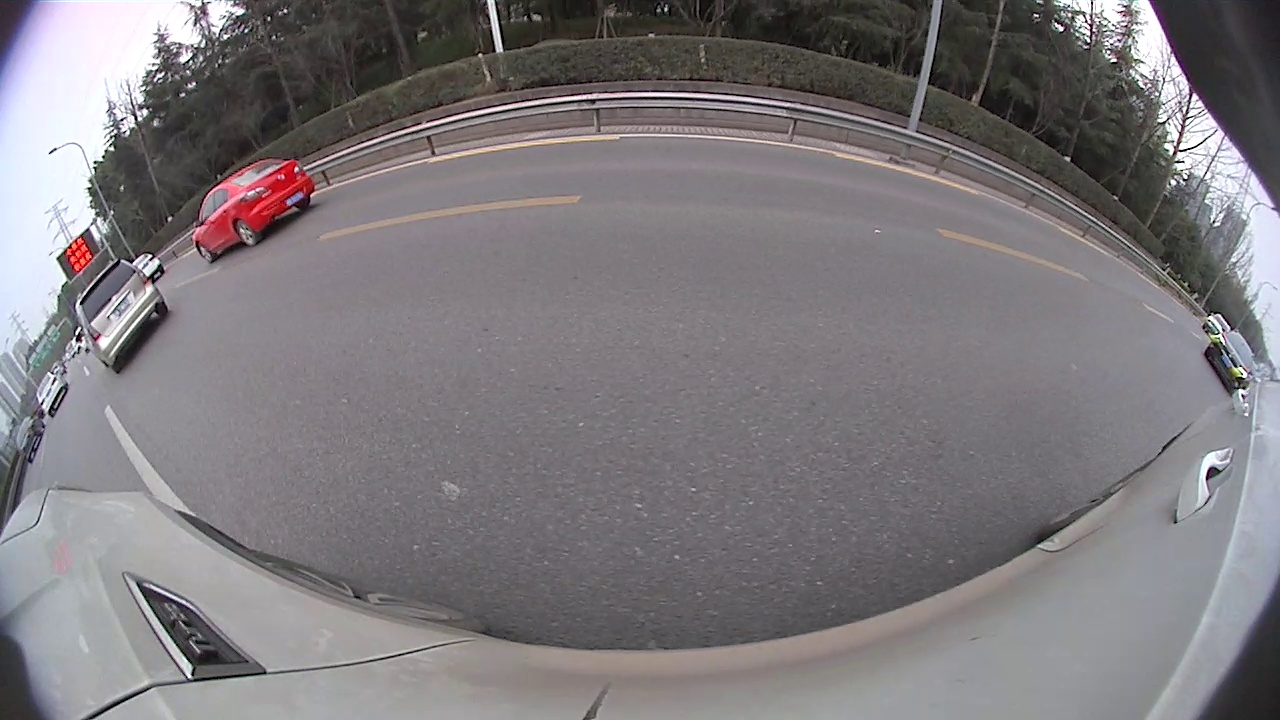bus: (1069, 119, 1279, 415), (877, 129, 1105, 281)
car: (1, 209, 283, 472), (791, 135, 986, 254), (594, 137, 694, 215), (455, 153, 553, 220)
front: (178, 277, 275, 387), (1176, 297, 1249, 393), (791, 185, 812, 214), (544, 182, 554, 201)
rear: (859, 197, 899, 242), (973, 206, 1004, 248), (516, 187, 533, 210)
